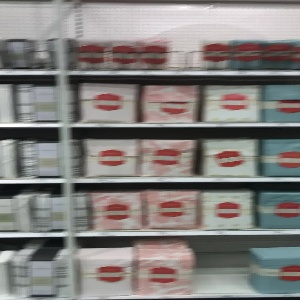void: (192, 236, 255, 296), (169, 2, 205, 70)
